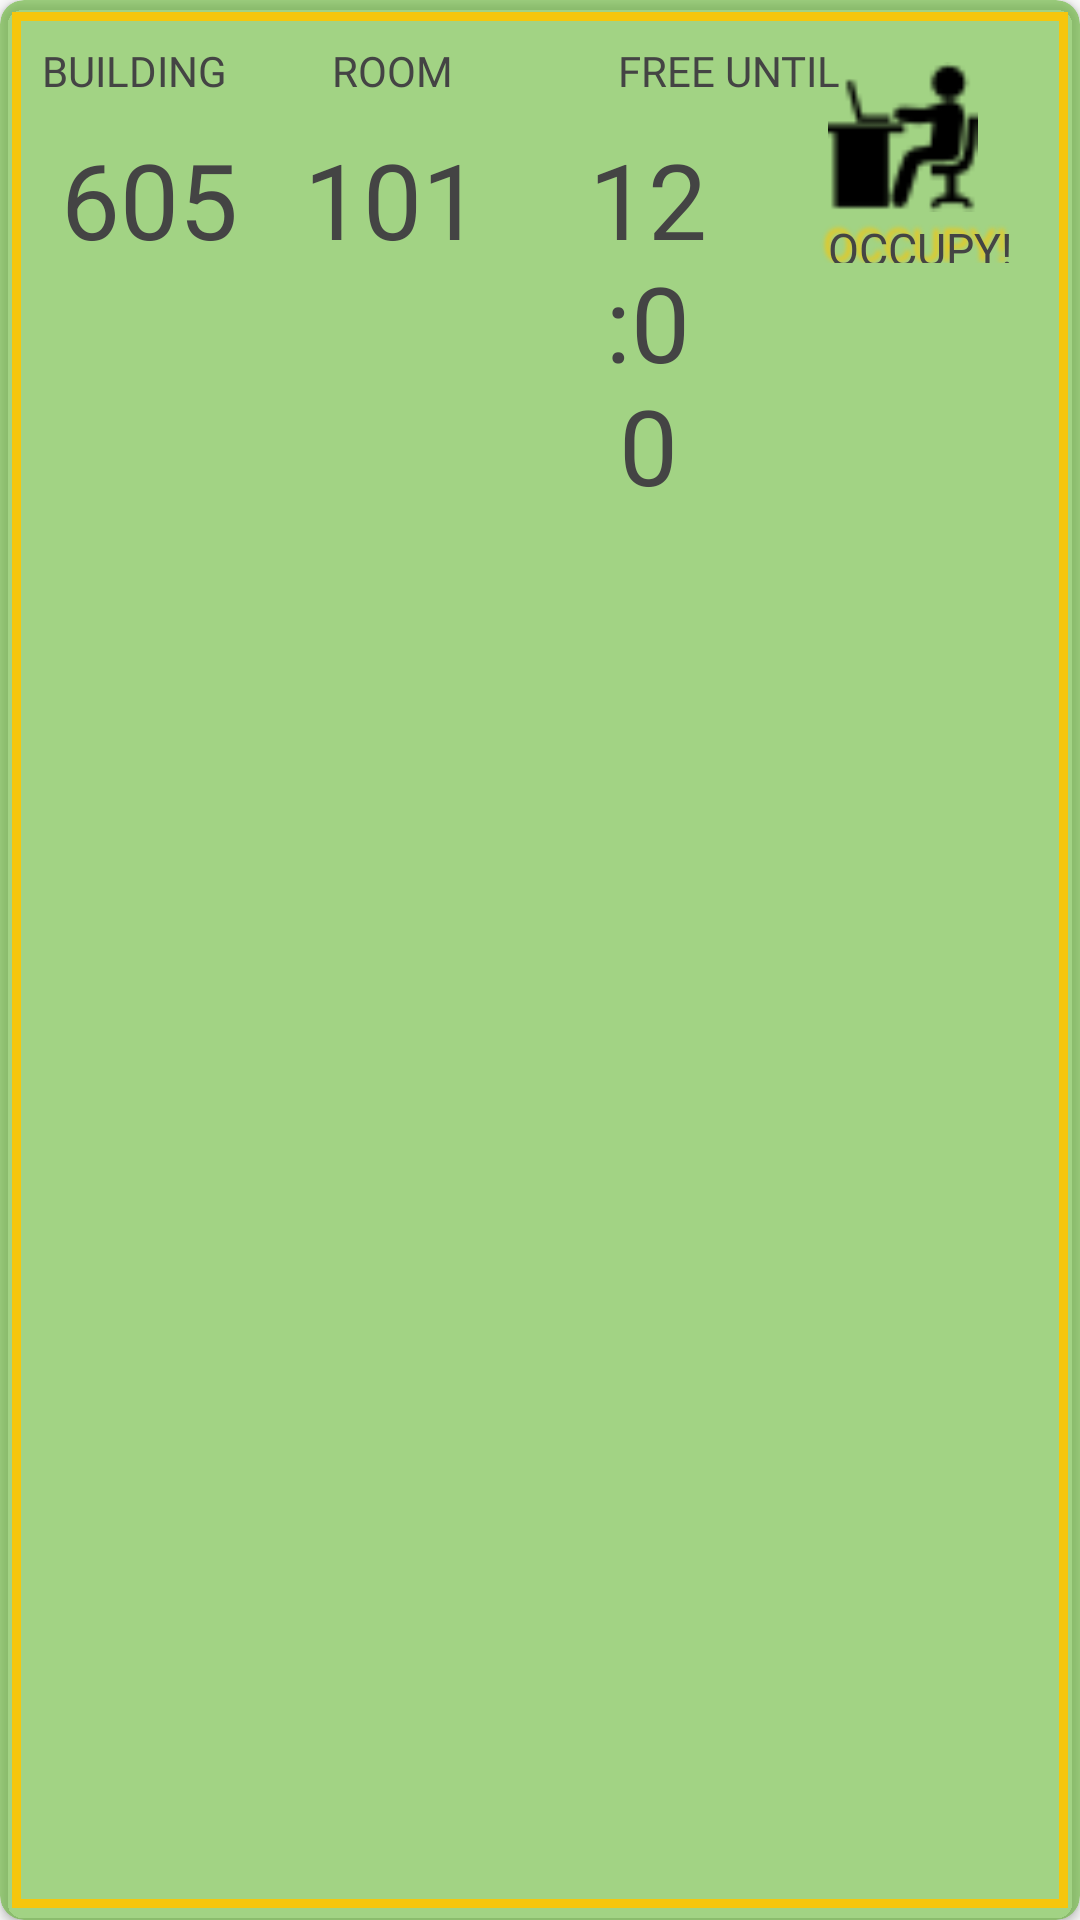

Icons on this 1080px×1920px Android screen, each with the point to tap as (x=x, y=y):
desk: (x=893, y=137)
